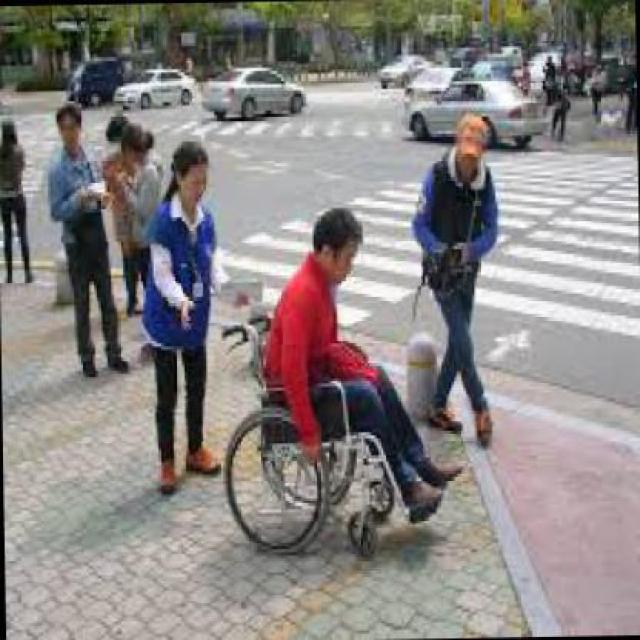Person: (218, 204, 457, 558), (143, 138, 248, 502), (413, 115, 501, 447), (46, 102, 129, 370), (114, 124, 168, 307), (0, 120, 35, 286)
